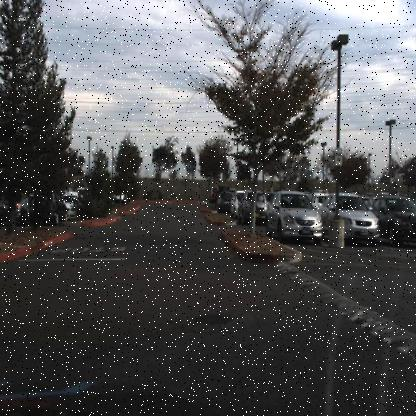car: (321, 192, 380, 244), (265, 189, 321, 243), (377, 195, 415, 249), (32, 189, 66, 225), (237, 190, 265, 224), (2, 191, 27, 226), (66, 192, 79, 224), (216, 191, 232, 214), (229, 190, 241, 218)
